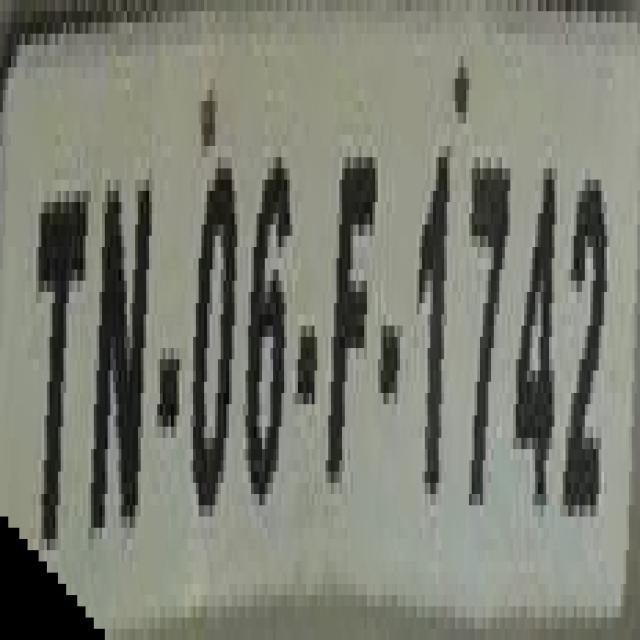license_plate: (0, 22, 607, 618)
